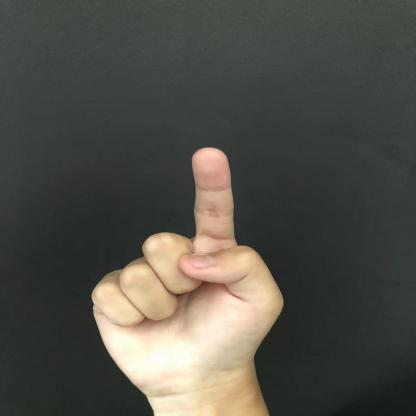finger_point: (187, 82, 249, 266)
